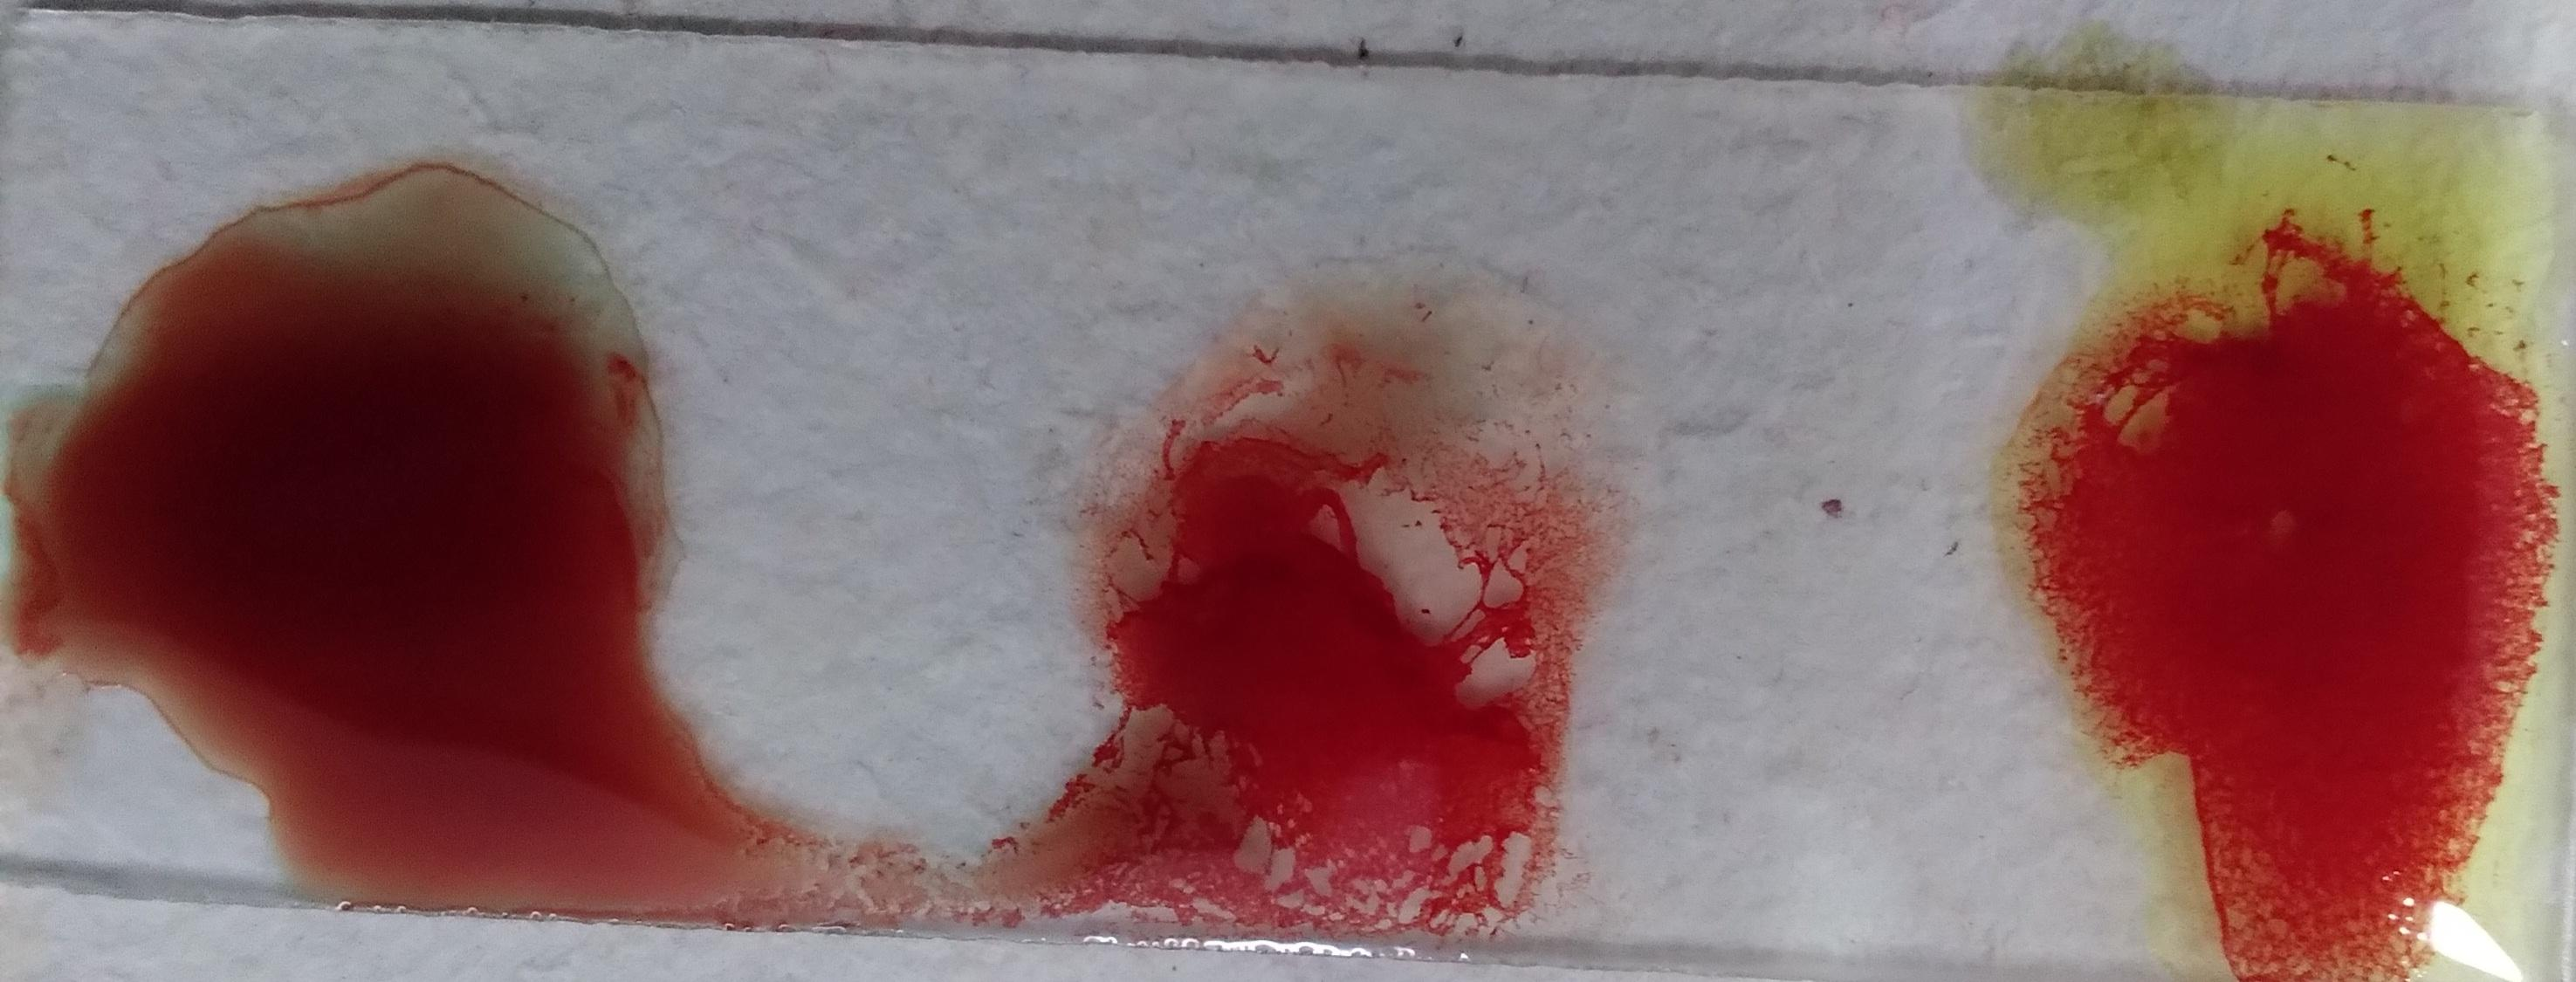B: (8, 0, 583, 811)
D: (971, 41, 1495, 709)
